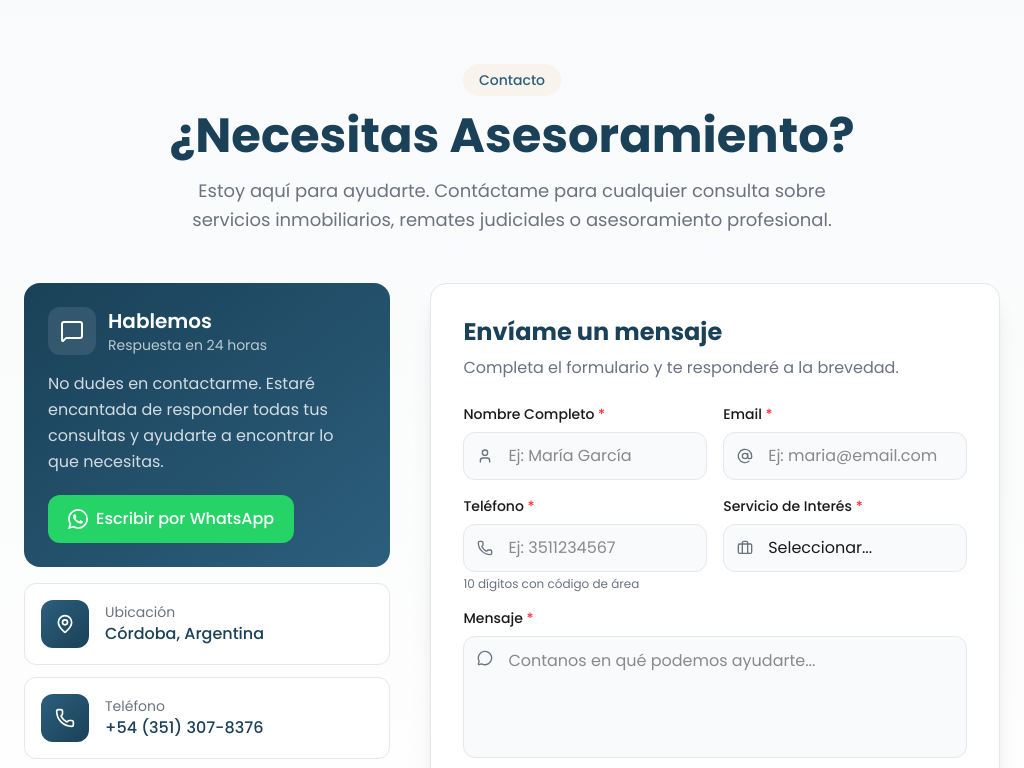
Test: Contact Form › validates message minimum length
Type "corto" into the text box with placeholder "Contanos en qué podemos ayudarte..." at (715, 696), box [463,636,967,758]
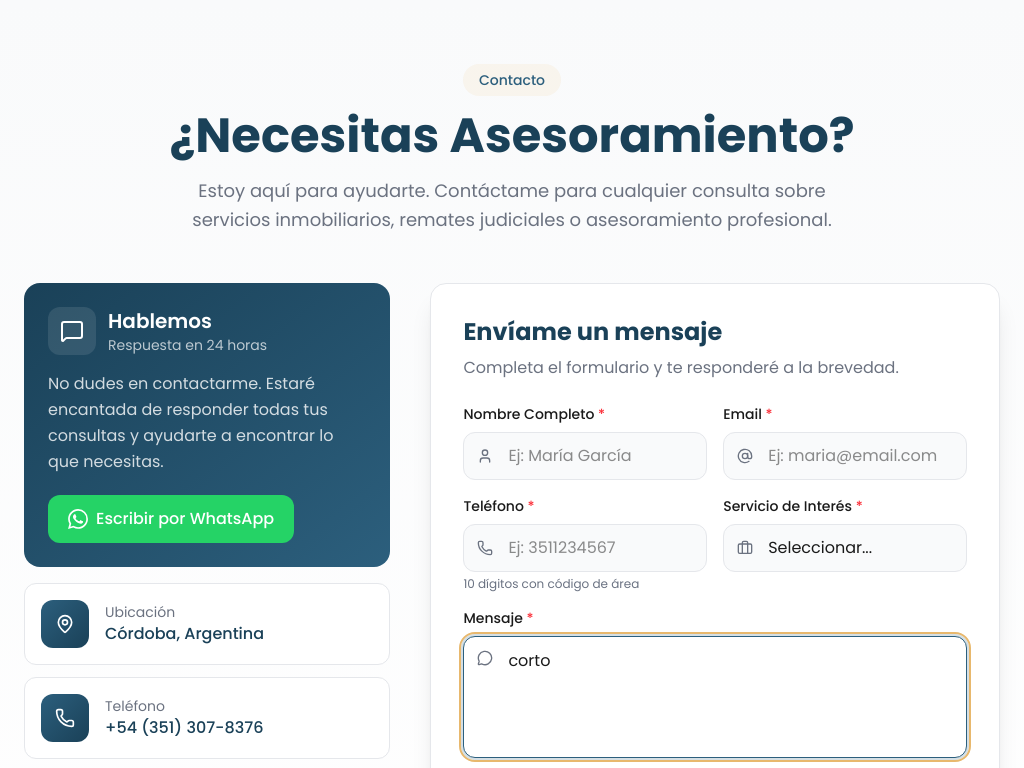
Press Tab
(page scrolled)
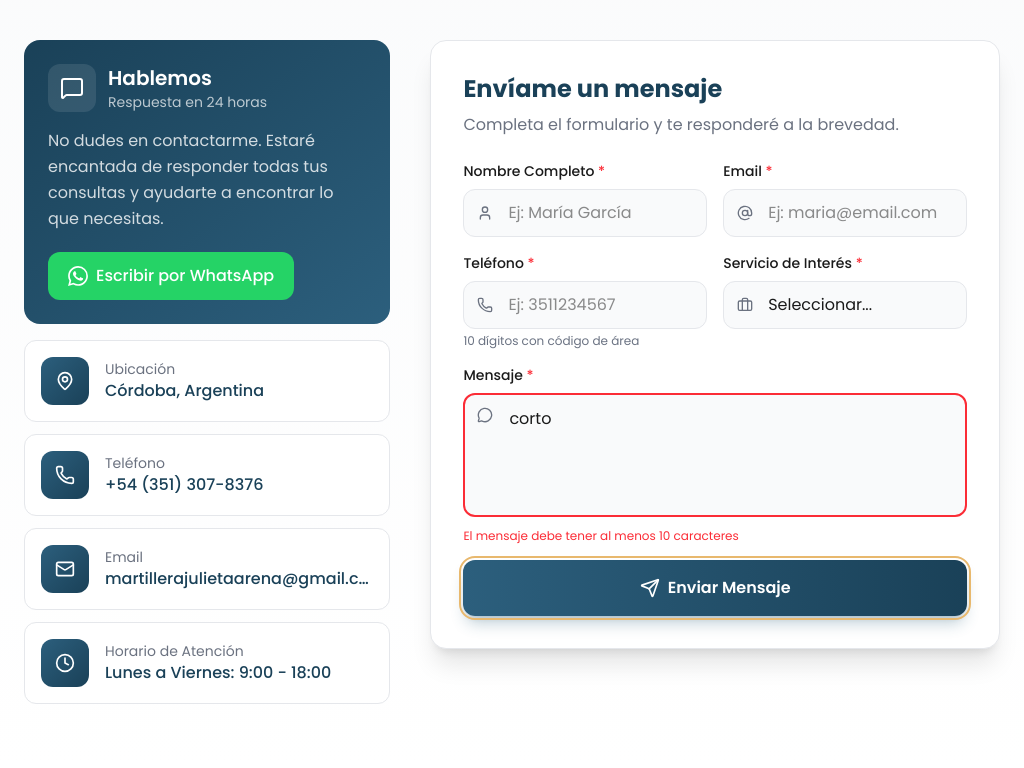
Now the text "El mensaje debe tener al menos 10 caracteres" is shown, box [463,527,739,544]
